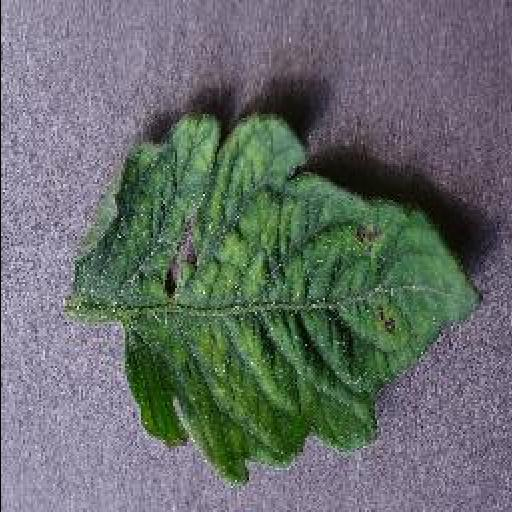disease_tomato: (73, 113, 487, 487)
